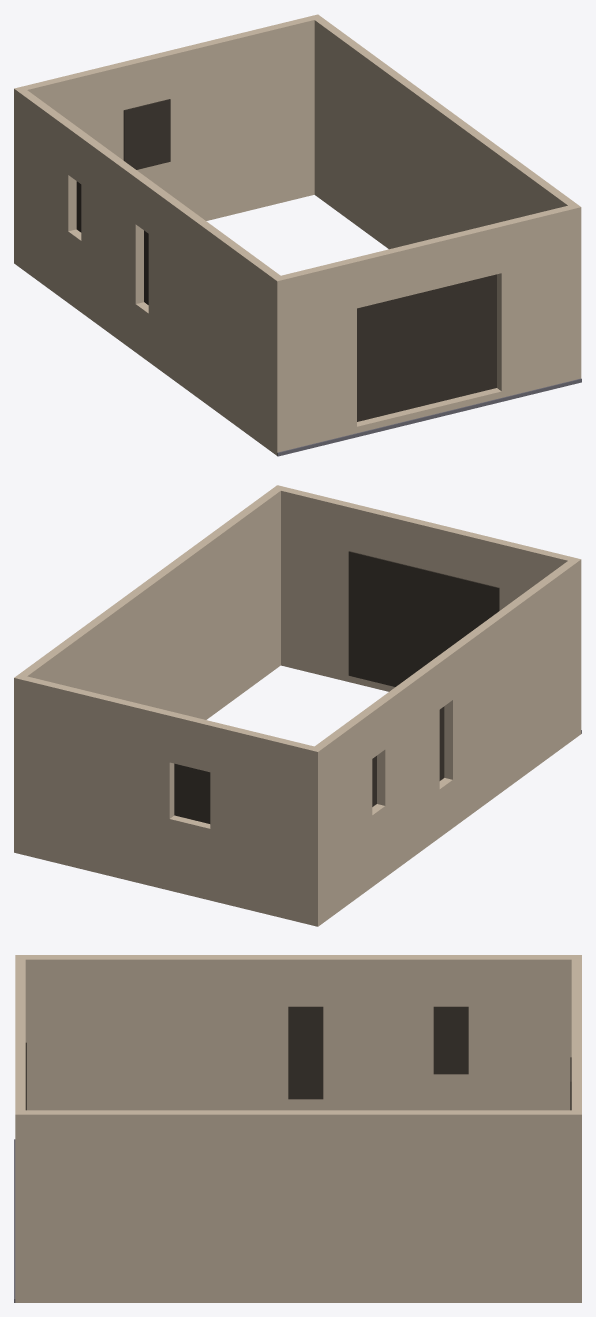
File: SM_Floor_NarrowUpperBalconyEndL_Cream_546_Back_01.gltf
3 views of the same model, one above another, from view 1: azimuth 30°, elevation 25°; view 2: azimuth 150°, elevation 25°; view 3: azimuth 270°, elevation 25° (orthographic). The views are drawn at different scales.
Parts seen in each view (by area): view 1: SM_Floor_NarrowUpperBalconyEndL_Cream_546_Back_01; view 2: SM_Floor_NarrowUpperBalconyEndL_Cream_546_Back_01; view 3: SM_Floor_NarrowUpperBalconyEndL_Cream_546_Back_01.
Boxes of the visible parts, x1=… form: SM_Floor_NarrowUpperBalconyEndL_Cream_546_Back_01: x1=14, y1=14, x2=581, y2=456; SM_Floor_NarrowUpperBalconyEndL_Cream_546_Back_01: x1=14, y1=485, x2=581, y2=926; SM_Floor_NarrowUpperBalconyEndL_Cream_546_Back_01: x1=14, y1=955, x2=581, y2=1302.
Size of the model in its own units: 5.46 by 3 by 8.21.
Materials: 1 (1 with a texture image).
